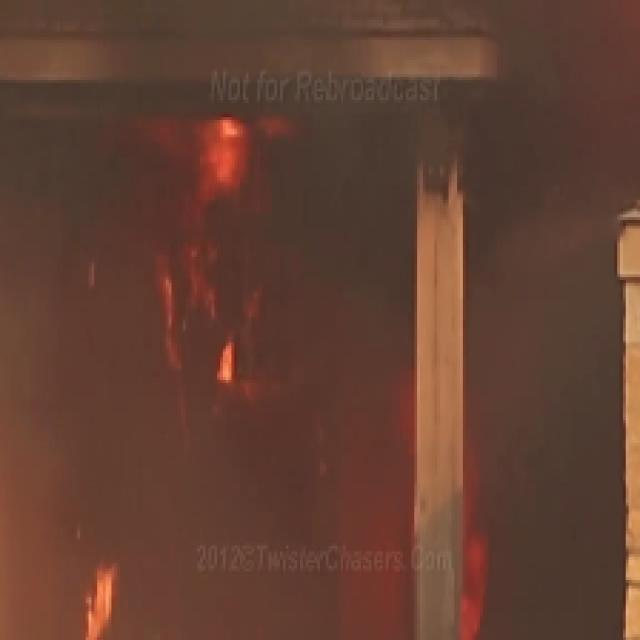Fire: (158, 228, 252, 388), (128, 114, 290, 197), (66, 568, 128, 634)
